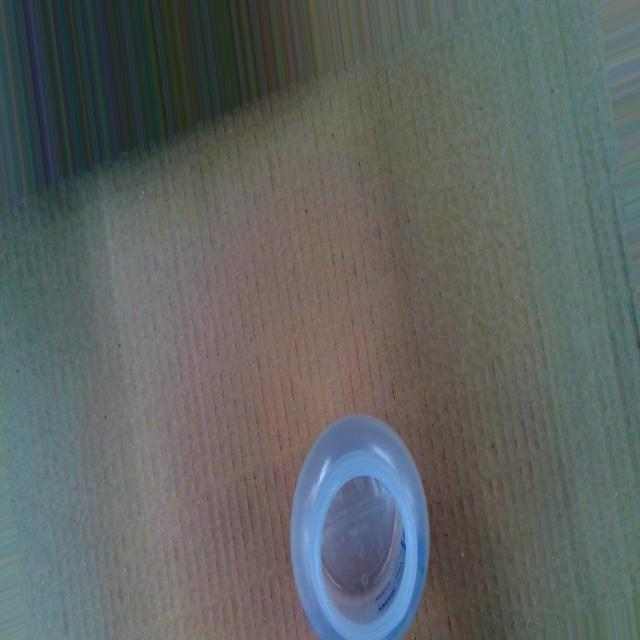bottle: (289, 410, 431, 640)
